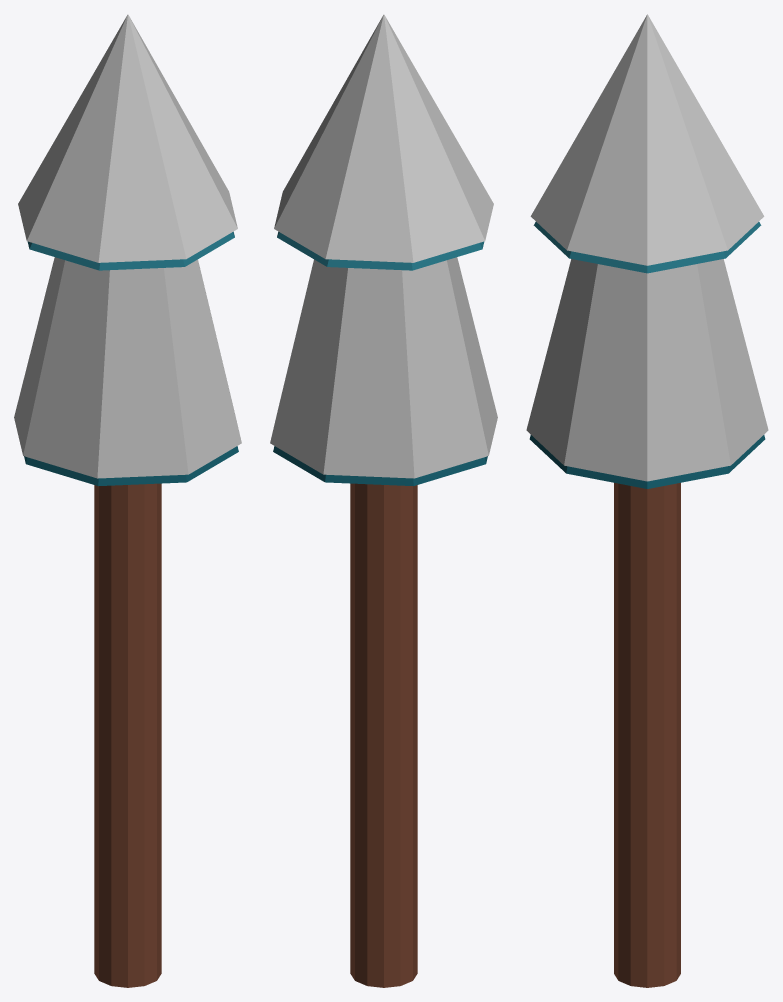
The model's file is Tree_21_winter_gradient_blue_vc.fbx.
The picture shows the model from 3 angles, left to right: view 1: azimuth 30°, elevation 25°; view 2: azimuth 150°, elevation 25°; view 3: azimuth 270°, elevation 25°; orthographic projection.
Parts seen in each view (by area): view 1: Tree_21_winter_gradient_blue_vc; view 2: Tree_21_winter_gradient_blue_vc; view 3: Tree_21_winter_gradient_blue_vc.
Boxes of the visible parts, box(x1,y1,x2,y2) form: Tree_21_winter_gradient_blue_vc: box(14, 14, 241, 987); Tree_21_winter_gradient_blue_vc: box(270, 14, 497, 987); Tree_21_winter_gradient_blue_vc: box(526, 14, 768, 987).
Bounding box in the file's own units: 80.03 × 350 × 80.03.
